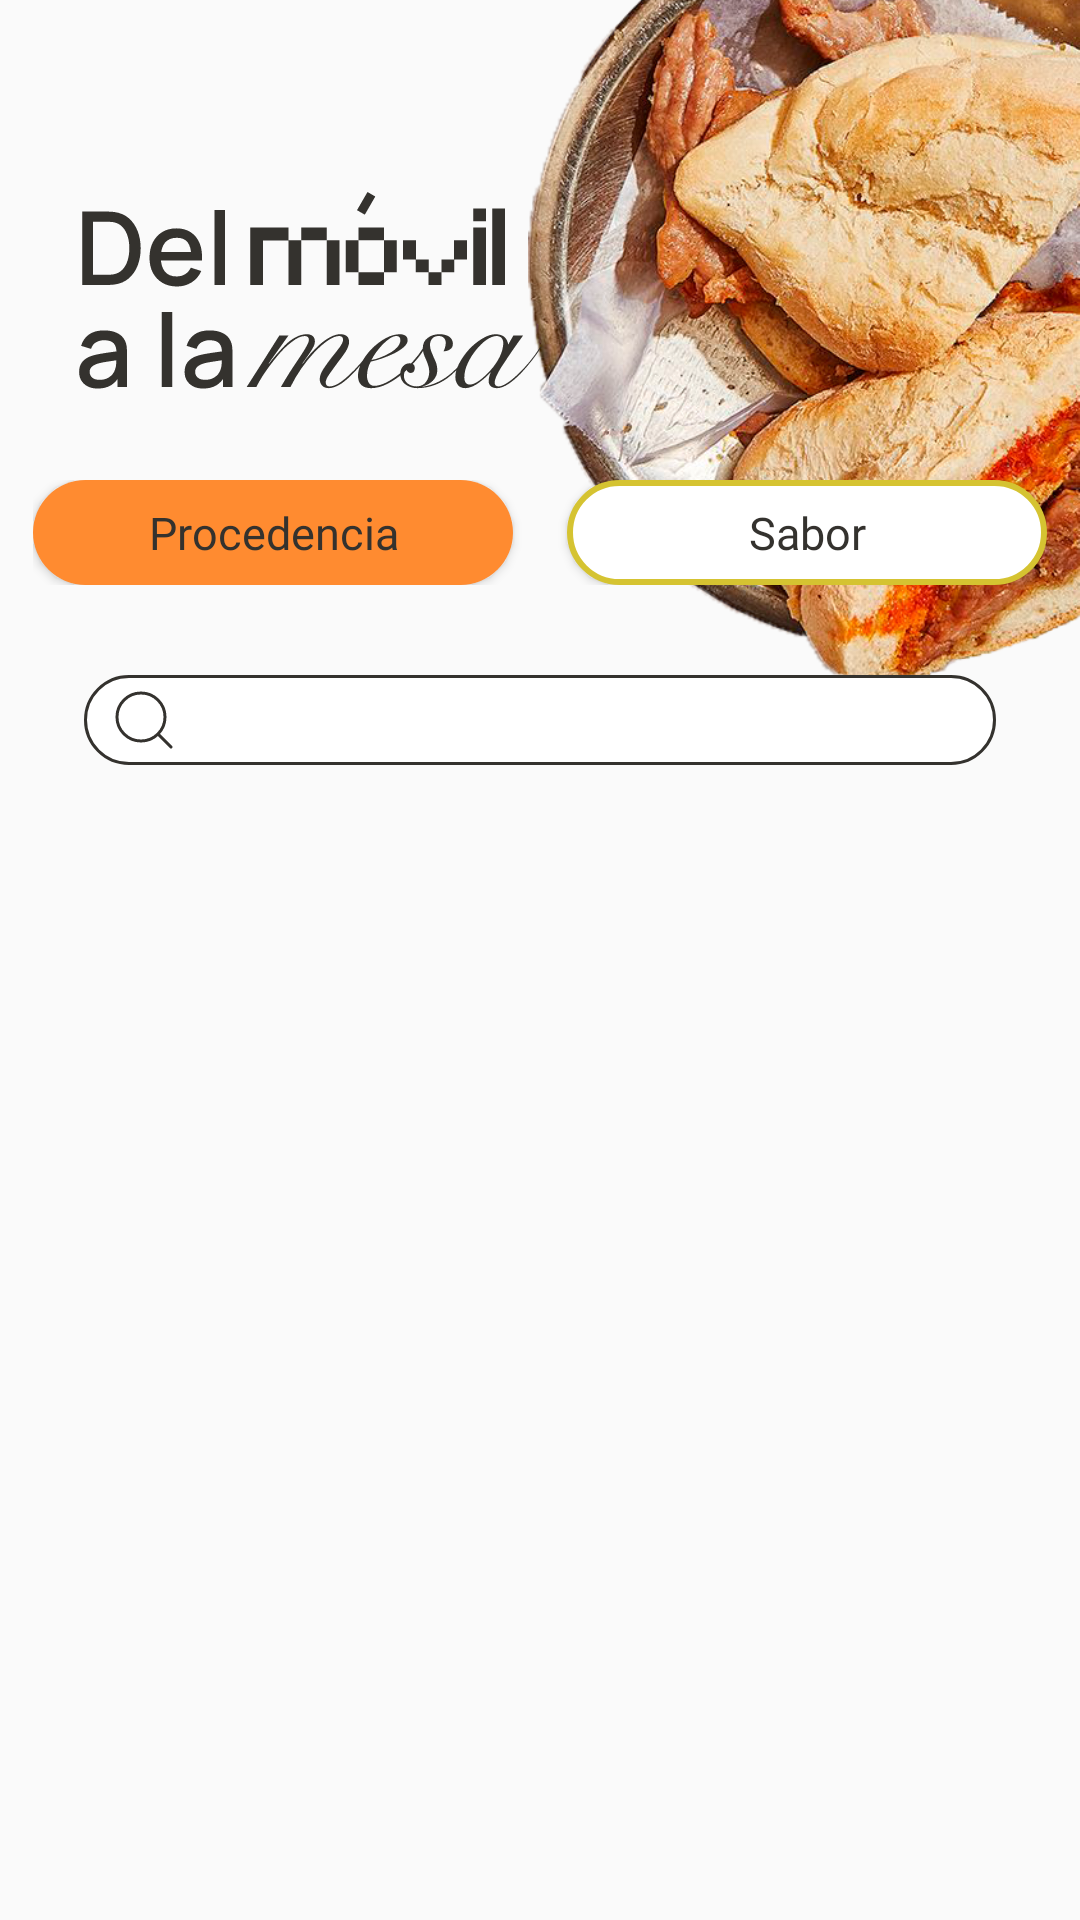

Point at icon controls on the screen. Image size 1080*1920, points as (x=x, y=y).
search examinar: (x=144, y=720)
